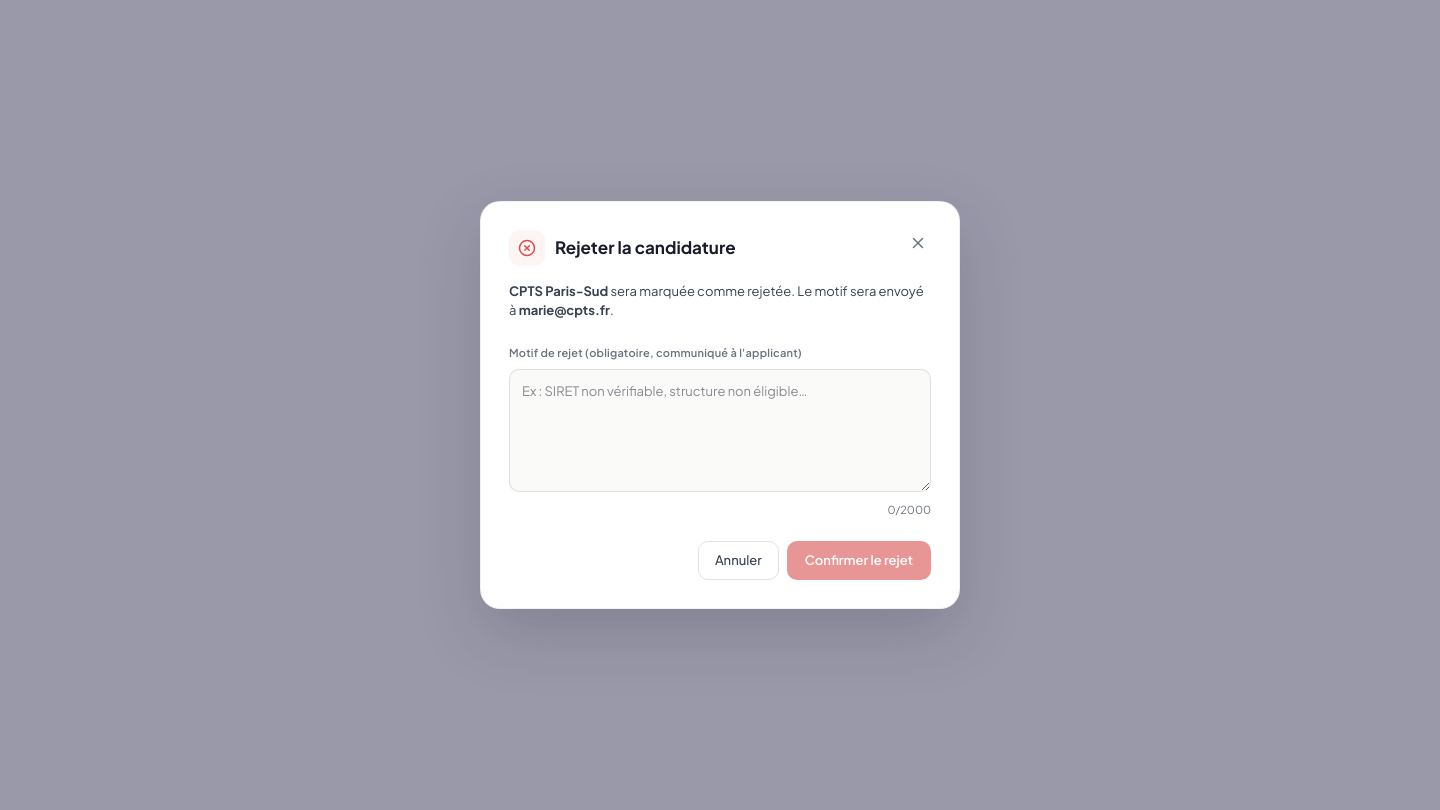
Test case: RejectModal › submit disabled tant que motif < 5 caractères ; erreur affichée au blur
Expected: the button "Confirmer le rejet" is disabled, [787,541,931,580]
Step 1. Type "abc" into the text box labelled "Motif de rejet" → (720, 431), box [509,369,931,492]
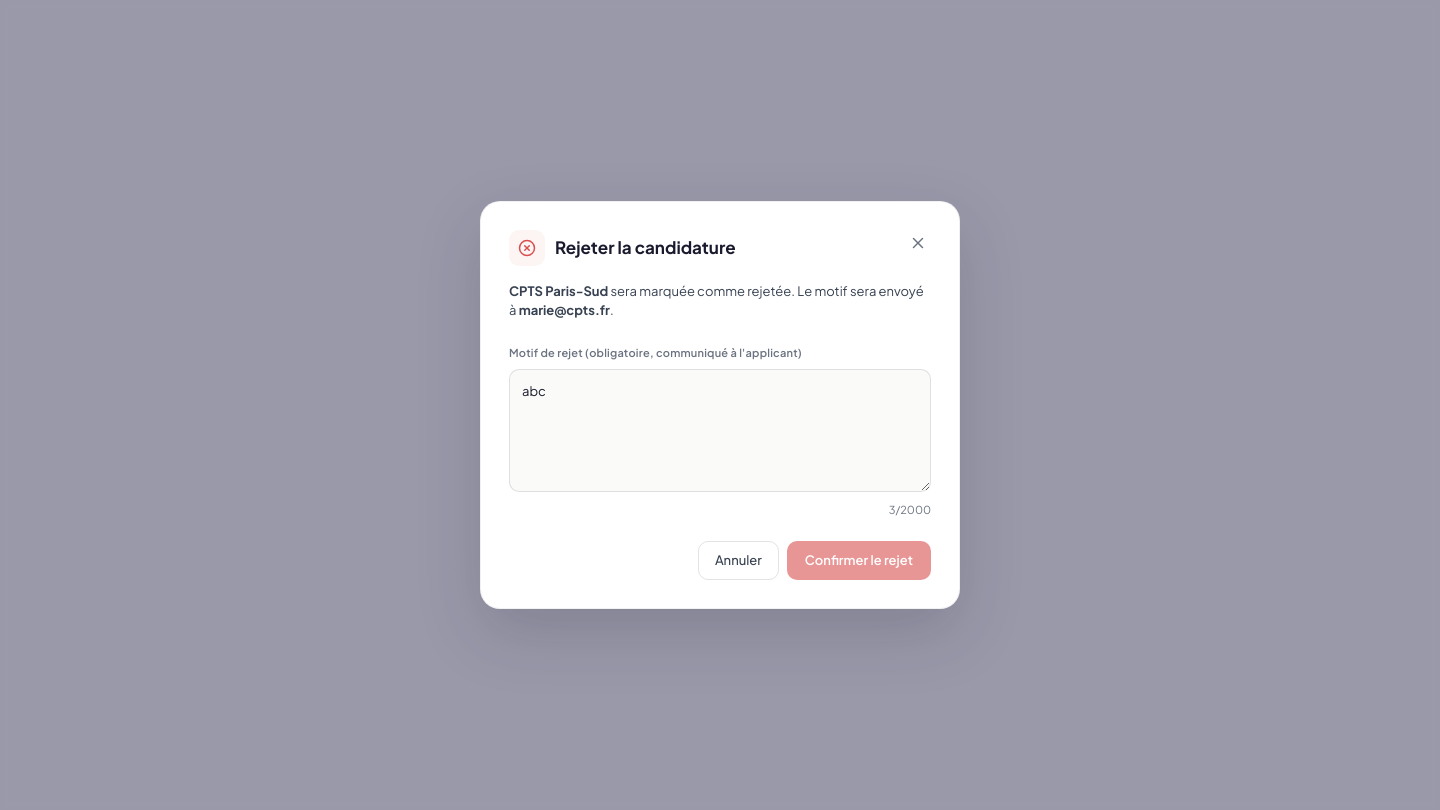
Expected: the button "Confirmer le rejet" is disabled, [787,541,931,580]
// Au blur sur textarea trop court → message d'erreur affiché
Step 2. Leave the text box labelled "Motif de rejet", box [509,369,931,492]
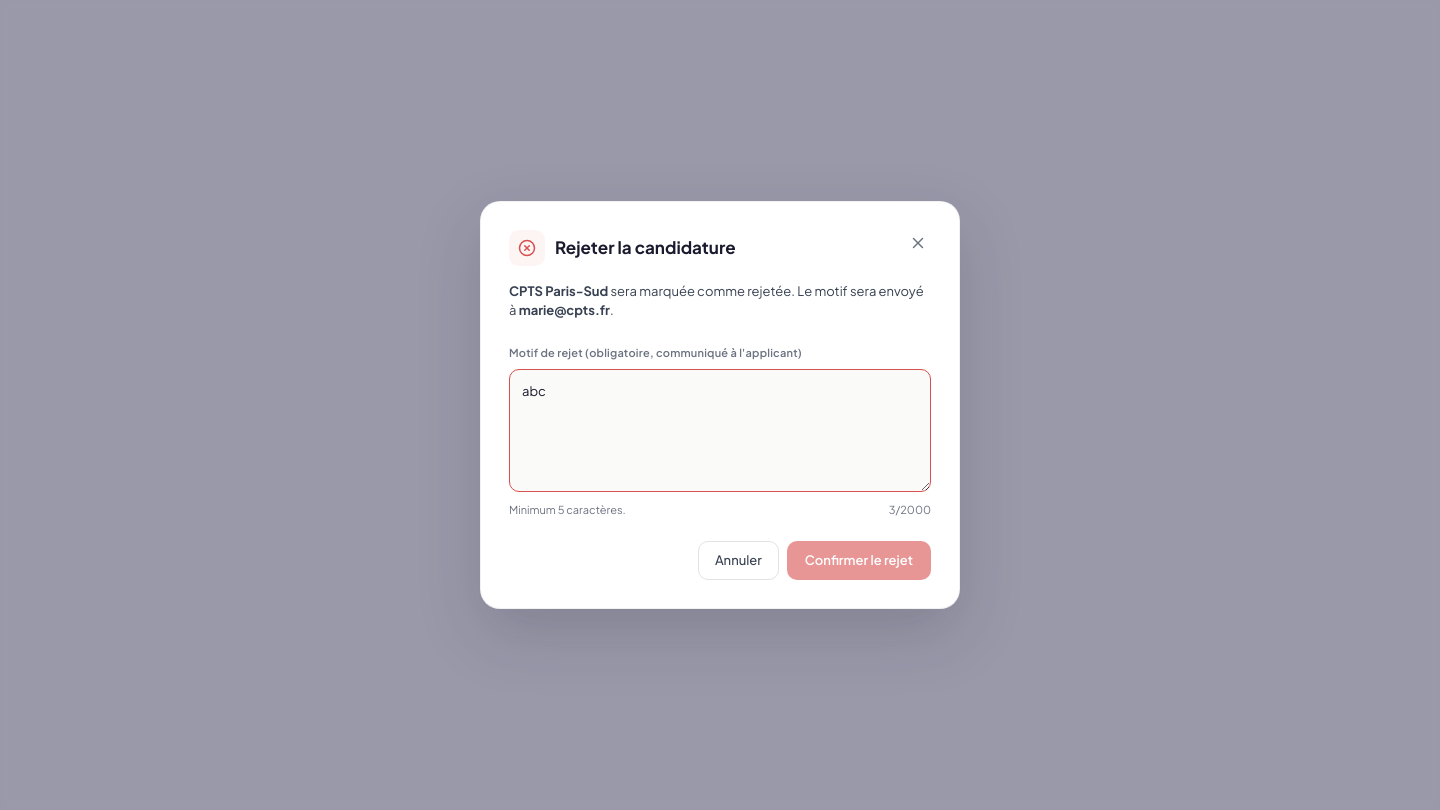
Expected: the text "Minimum 5 caractères." is shown, [509,502,626,519]
